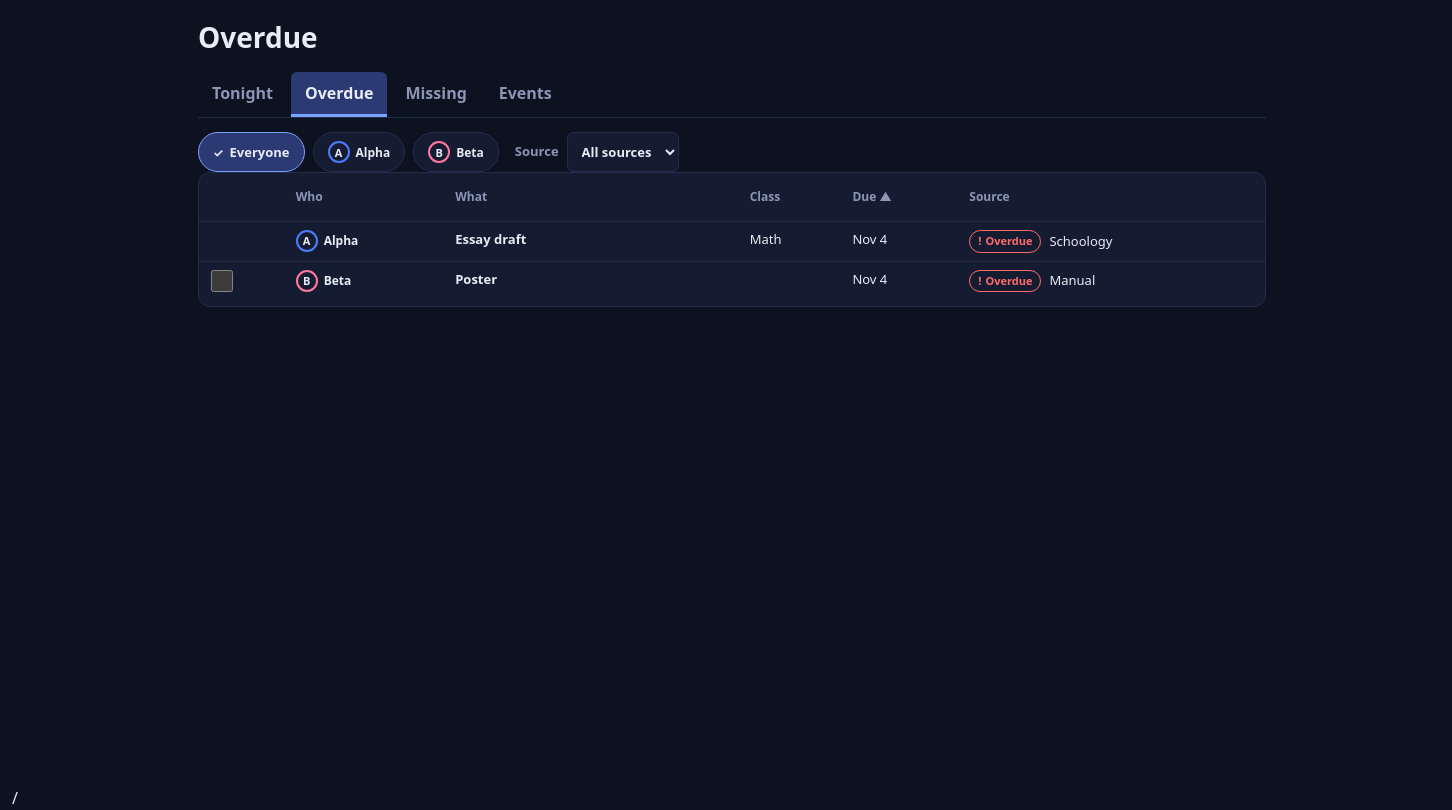
Test: check-off rolls back and shows an error when the PATCH fails
Expected: the table is shown, [199,173,1265,306]
Click the checkbox named "poster".
click(222, 281)  # box [211,270,233,292]
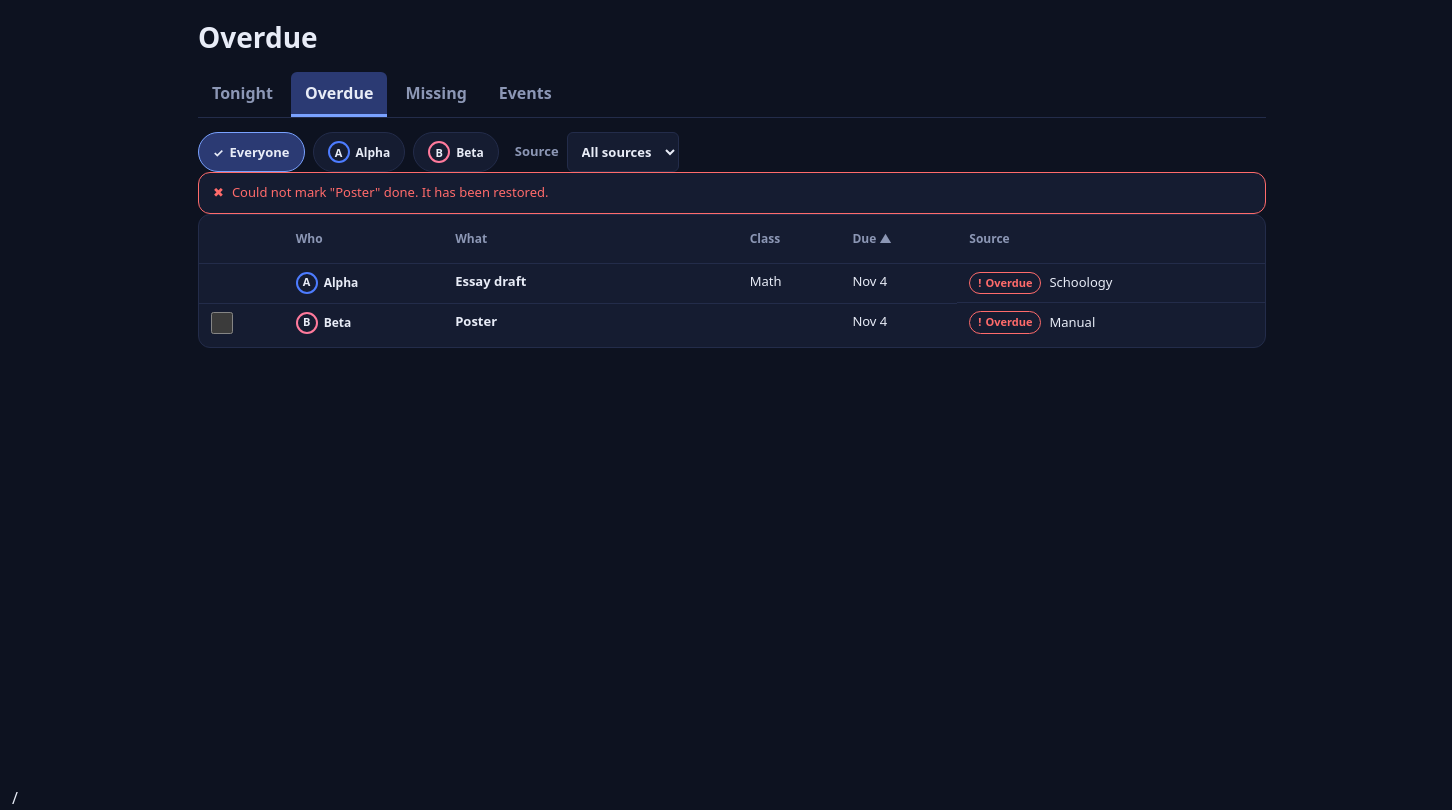
Result: the message shows "Poster" at [232,183,548,201]
